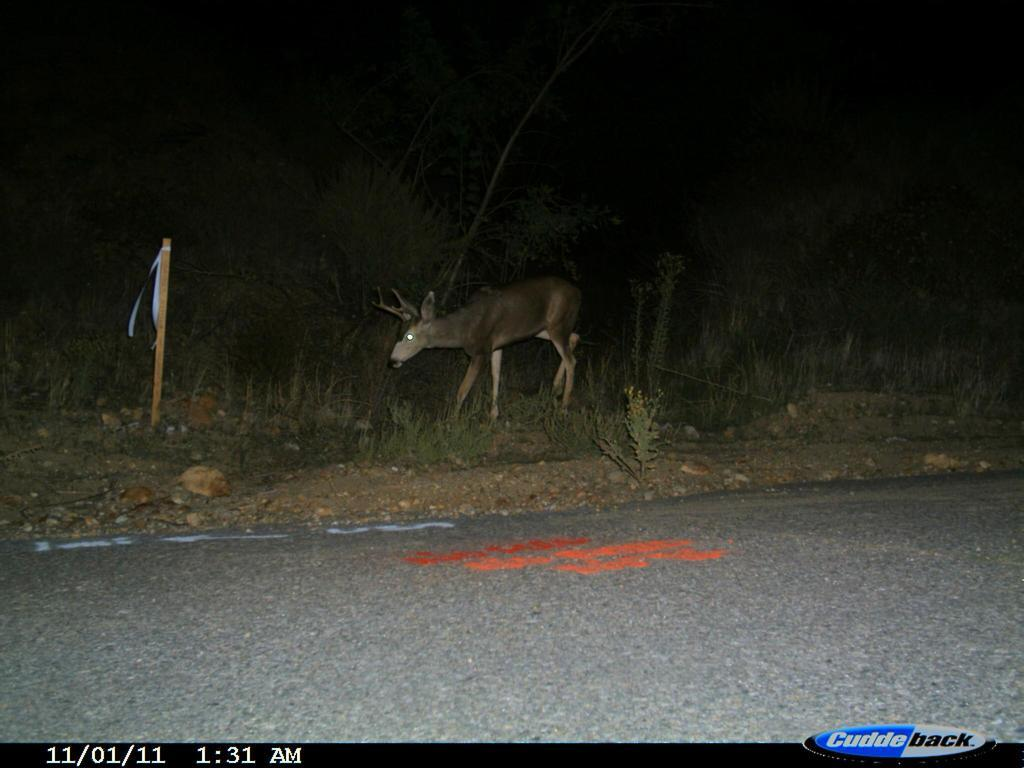deer: (365, 267, 592, 432)
